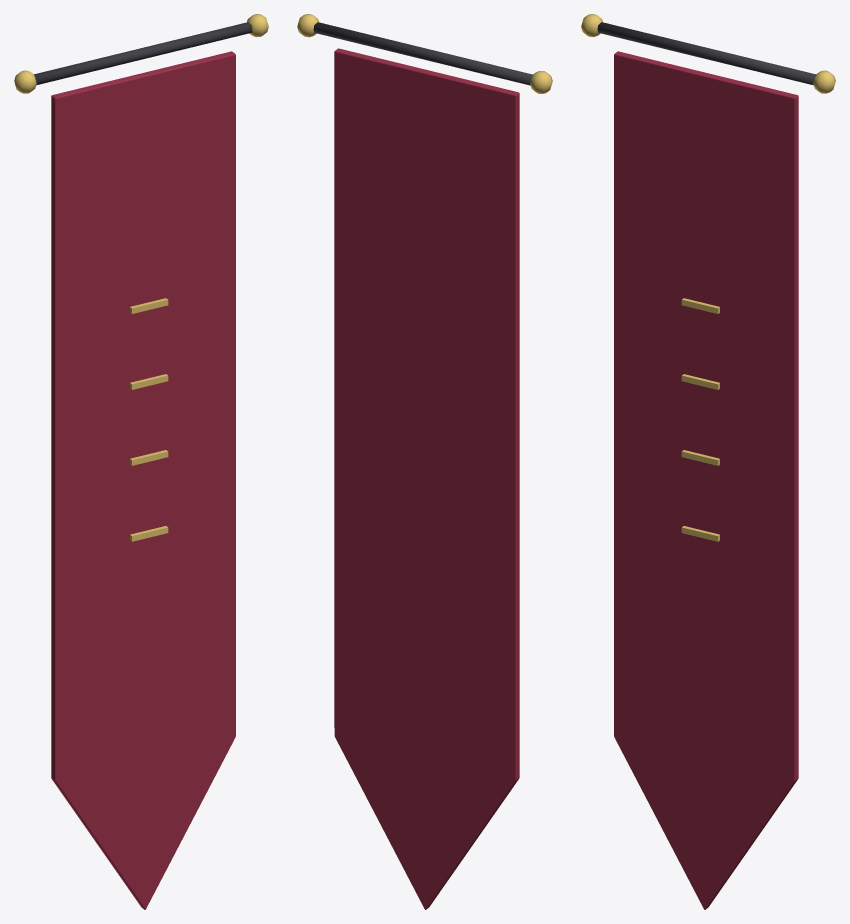
File: banner_long_pennant_red.glb
3 views of the same model, side by side, from view 1: azimuth 30°, elevation 25°; view 2: azimuth 150°, elevation 25°; view 3: azimuth 330°, elevation 25° (orthographic).
Parts seen in each view (by area): view 1: GD_banner_long_pennant_red__m2, GD_banner_long_pennant_red__m0, GD_banner_long_pennant_red__m1; view 2: GD_banner_long_pennant_red__m2, GD_banner_long_pennant_red__m0, GD_banner_long_pennant_red__m1; view 3: GD_banner_long_pennant_red__m2, GD_banner_long_pennant_red__m0, GD_banner_long_pennant_red__m1.
Part boxes in pixels (box(x1,y1,x2,y2)): GD_banner_long_pennant_red__m2: box(51, 51, 235, 909); GD_banner_long_pennant_red__m0: box(34, 22, 252, 85); GD_banner_long_pennant_red__m1: box(14, 14, 268, 541); GD_banner_long_pennant_red__m2: box(334, 48, 519, 909); GD_banner_long_pennant_red__m0: box(313, 22, 532, 85); GD_banner_long_pennant_red__m1: box(297, 14, 552, 93); GD_banner_long_pennant_red__m2: box(614, 51, 798, 909); GD_banner_long_pennant_red__m0: box(597, 22, 815, 85); GD_banner_long_pennant_red__m1: box(581, 14, 835, 541).
Size of the model in its own units: 0.696 by 2.28 by 0.069.
